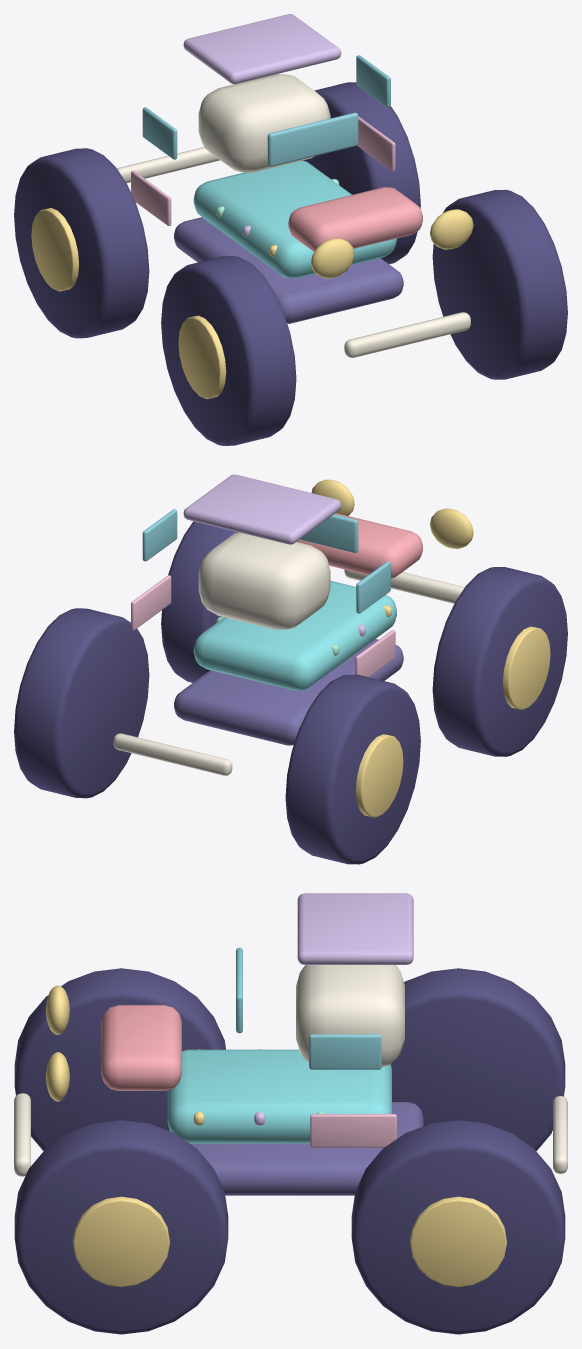
Rendered from monstertruck_story.glb.
3 views of the same model, one above another, from view 1: azimuth 30°, elevation 25°; view 2: azimuth 150°, elevation 25°; view 3: azimuth 270°, elevation 25° (orthographic). The views are drawn at different scales.
Parts seen in each view (by area): view 1: monstertruck_story_mesh; view 2: monstertruck_story_mesh; view 3: monstertruck_story_mesh.
Boxes of the visible parts, x1=… form: monstertruck_story_mesh: x1=14, y1=14, x2=567, y2=445; monstertruck_story_mesh: x1=14, y1=474, x2=567, y2=864; monstertruck_story_mesh: x1=14, y1=893, x2=567, y2=1334.
Bounding box in the file's own units: 4.34 × 3.56 × 5.49.
